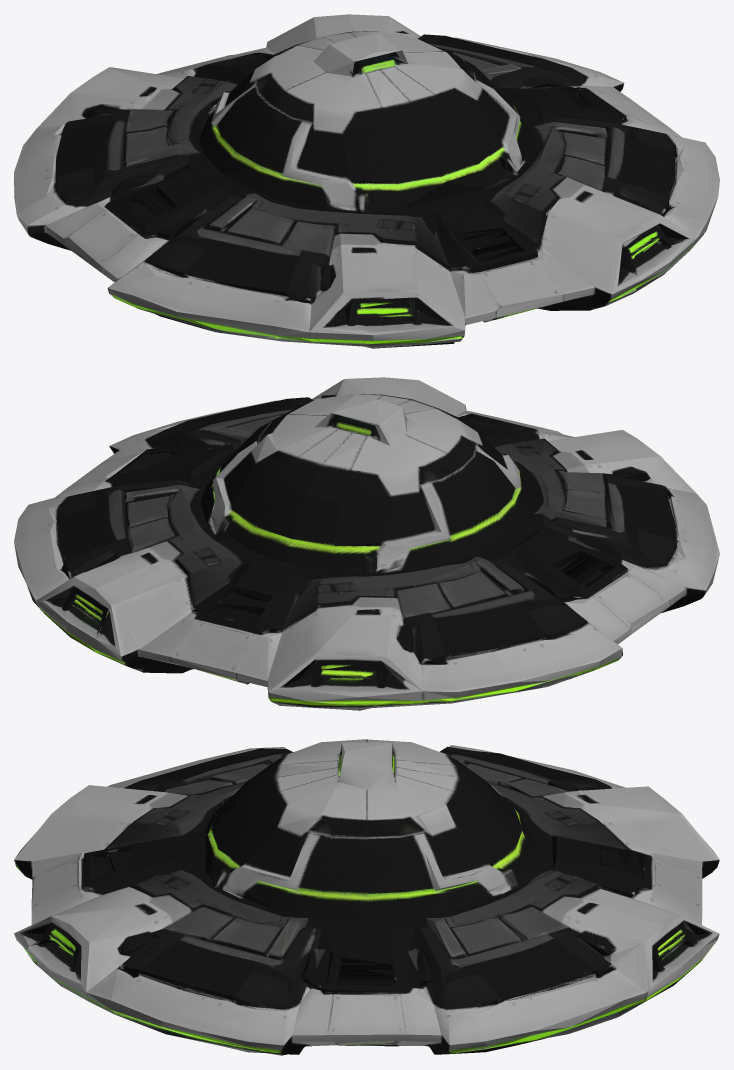
Rendered from Meshy_AI_Neon_Disc_Cruiser_1018163656_texture.glb.
The picture shows the model from 3 angles, top to bottom: view 1: azimuth 30°, elevation 25°; view 2: azimuth 150°, elevation 25°; view 3: azimuth 270°, elevation 25°; orthographic projection. The views are drawn at different scales.
Visible parts, largest first — view 1: output_unwrapped; view 2: output_unwrapped; view 3: output_unwrapped.
Boxes of the visible parts, x1=… form: output_unwrapped: x1=14, y1=14, x2=719, y2=348; output_unwrapped: x1=14, y1=377, x2=719, y2=710; output_unwrapped: x1=14, y1=739, x2=719, y2=1055.
Size of the model in its own units: 1.9 by 0.7446 by 1.9.
1 material, 1 textured.
